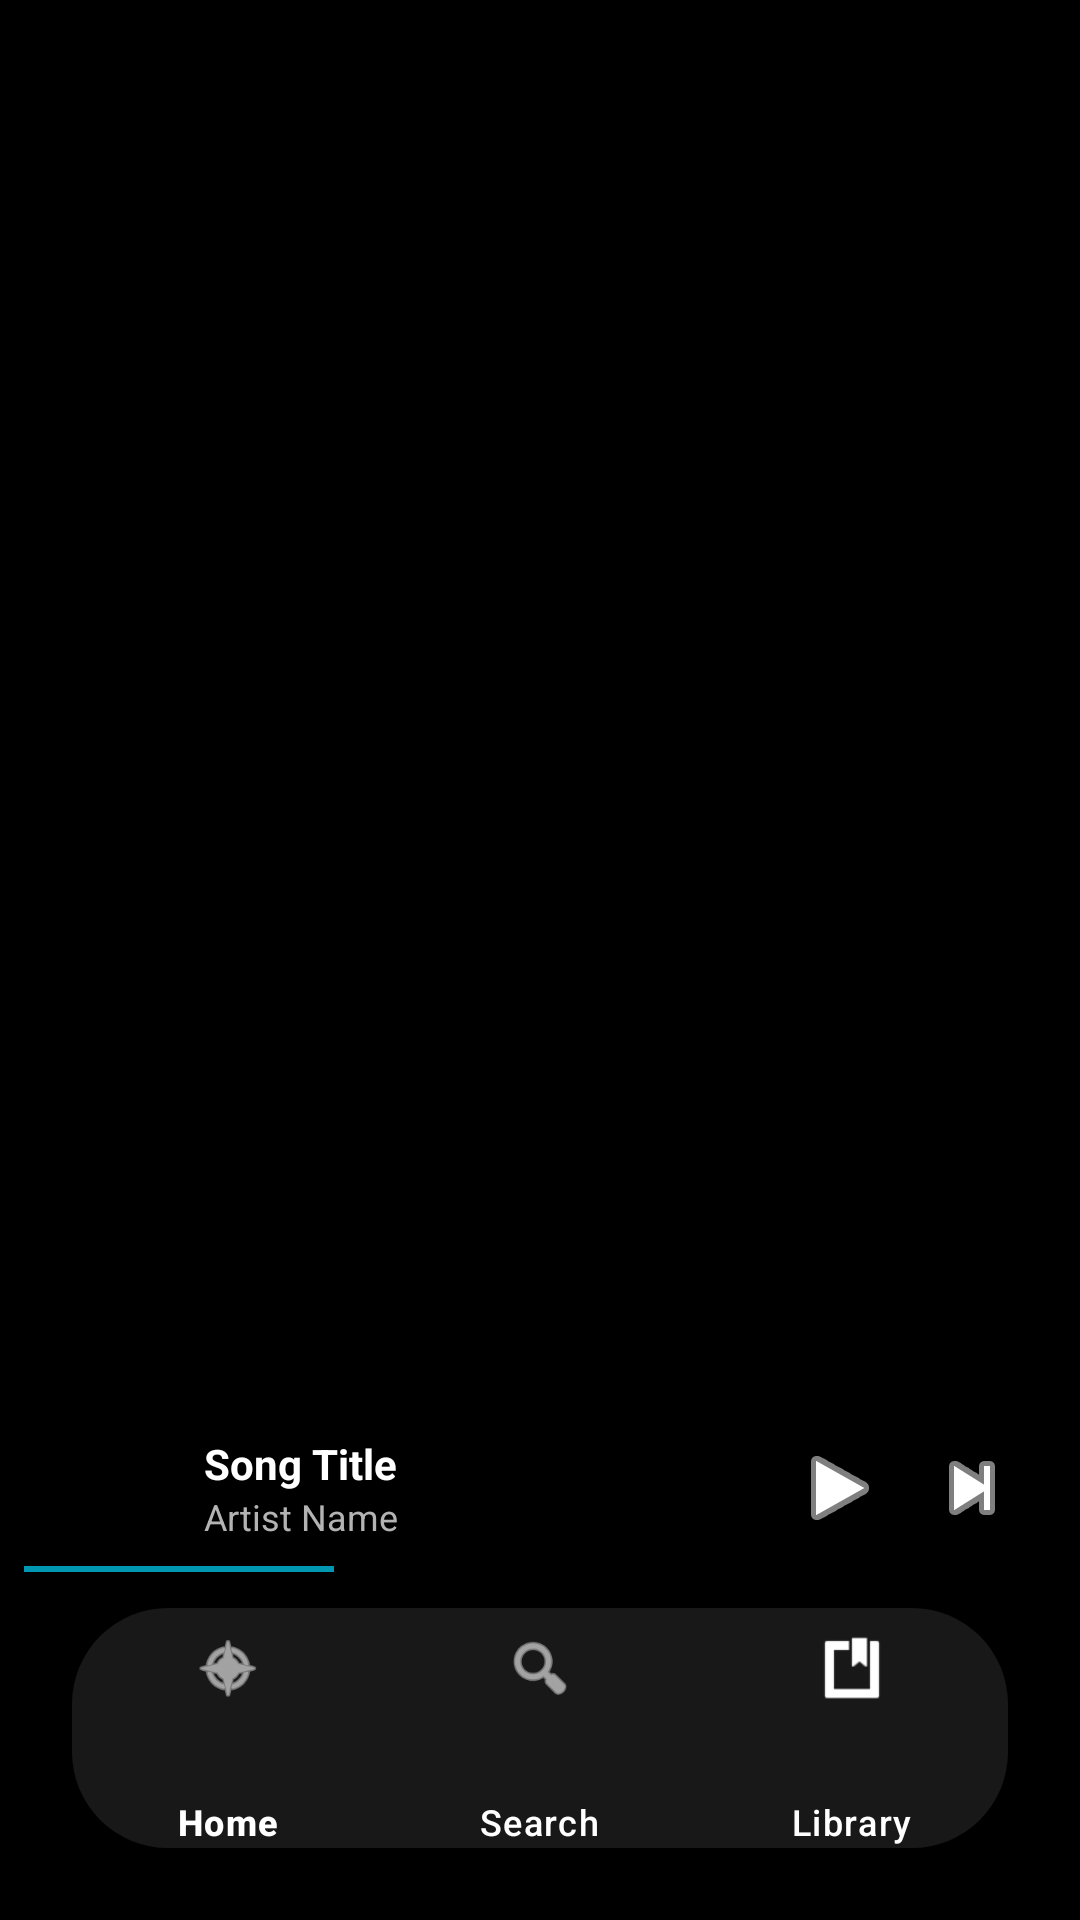

Screen size 1080 x 1920. Icon name, then its center in pixels as (x=x, y=y):
next: (x=972, y=1488)
play: (x=840, y=1488)
